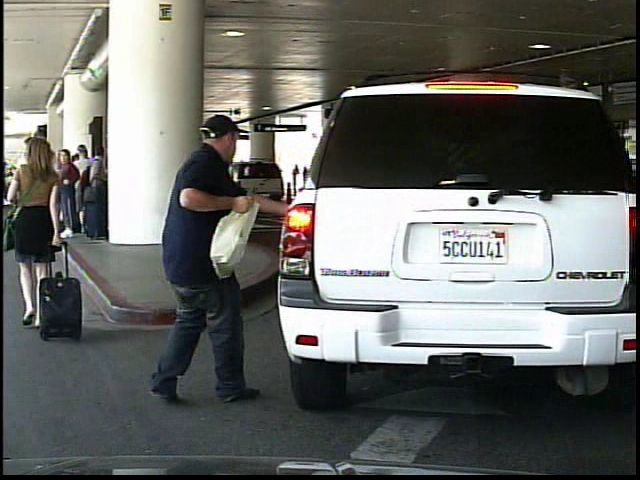person: (144, 108, 286, 409), (8, 136, 67, 337)
